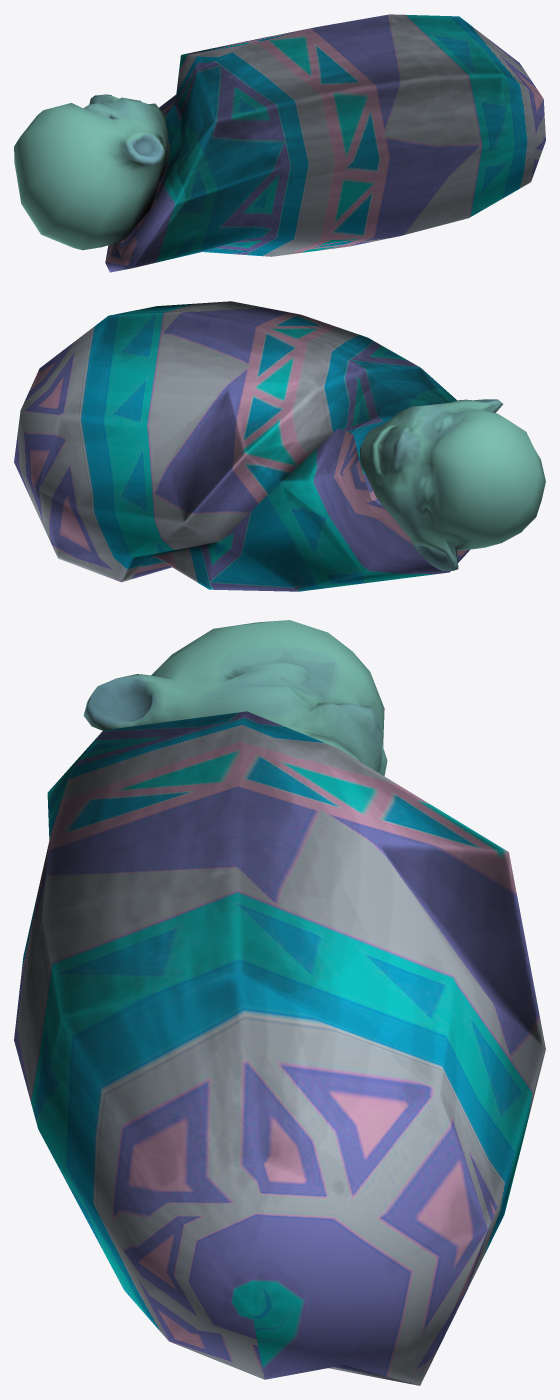
File: baby2.FBX
3 views of the same model, one above another, from view 1: azimuth 30°, elevation 25°; view 2: azimuth 150°, elevation 25°; view 3: azimuth 270°, elevation 25° (orthographic). The views are drawn at different scales.
Visible parts, largest first — view 1: Baby02; view 2: Baby02; view 3: Baby02.
Boxes of the visible parts, <box> form: Baby02: <box>14,14,545,272</box>; Baby02: <box>14,301,545,591</box>; Baby02: <box>14,620,545,1385</box>.
Bounding box in the file's own units: 69.14 × 30.64 × 31.99.
